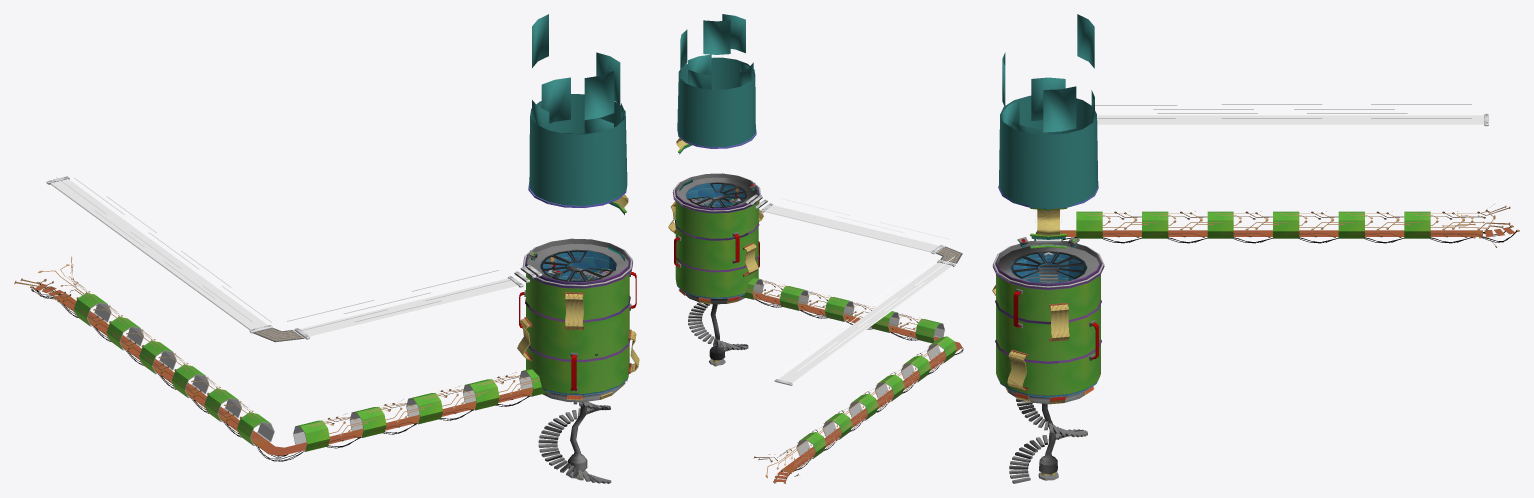
The model's file is MemeFactory_Tower_Art.fbx.
3 renders of one model, left to right at view 1: azimuth 30°, elevation 25°; view 2: azimuth 150°, elevation 25°; view 3: azimuth 270°, elevation 25°, orthographic. The views are drawn at different scales.
Parts seen in each view (by area): view 1: MemeFactory_Tower_Art; view 2: MemeFactory_Tower_Art; view 3: MemeFactory_Tower_Art.
Part boxes in pixels (left/top/right/bottom): MemeFactory_Tower_Art: left=14, top=14, right=639, bottom=483; MemeFactory_Tower_Art: left=668, top=14, right=963, bottom=483; MemeFactory_Tower_Art: left=992, top=14, right=1519, bottom=483.
Size of the model in its own units: 6165 by 6817 by 7243.
